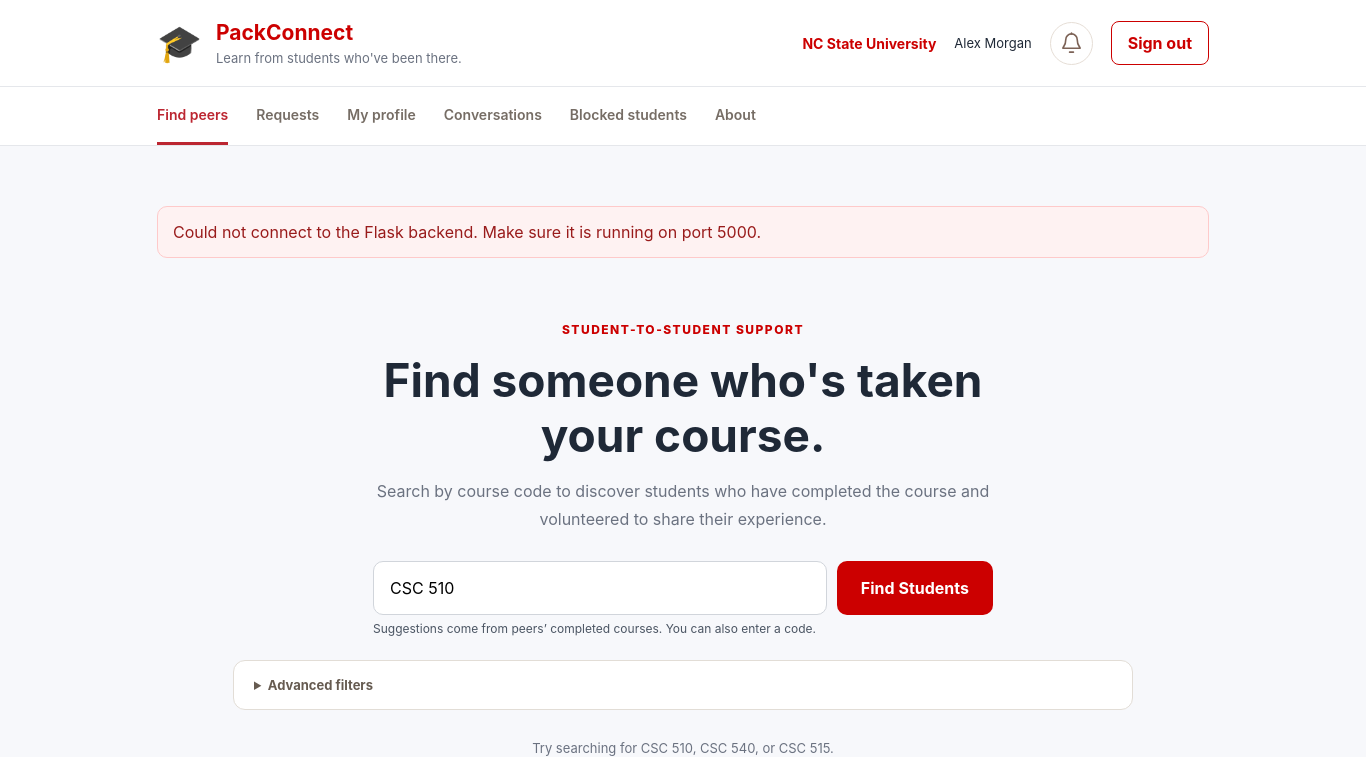
Test: peer search › shows connection feedback on network failure and recovers on retry
Expected: the message shows "Could not connect to the Flask backend", [173,222,761,242]
Click the button "Find Students": coordinates (915, 588) [837,561,993,615]
(page scrolled)
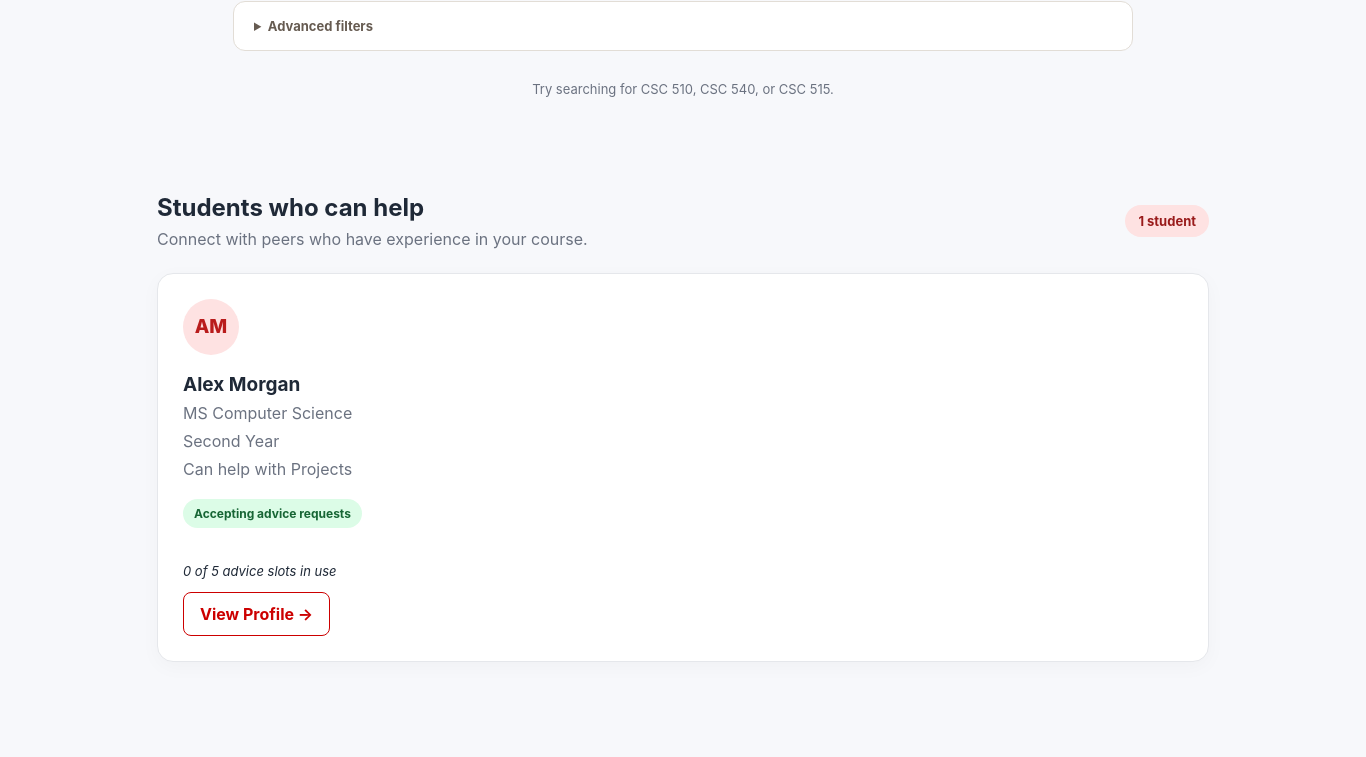
Result: the heading "Alex Morgan" is shown at [183,373,300,396]
Result: the message "Could not connect to the Flask backend. Make sure it is running on port 5000." is gone
